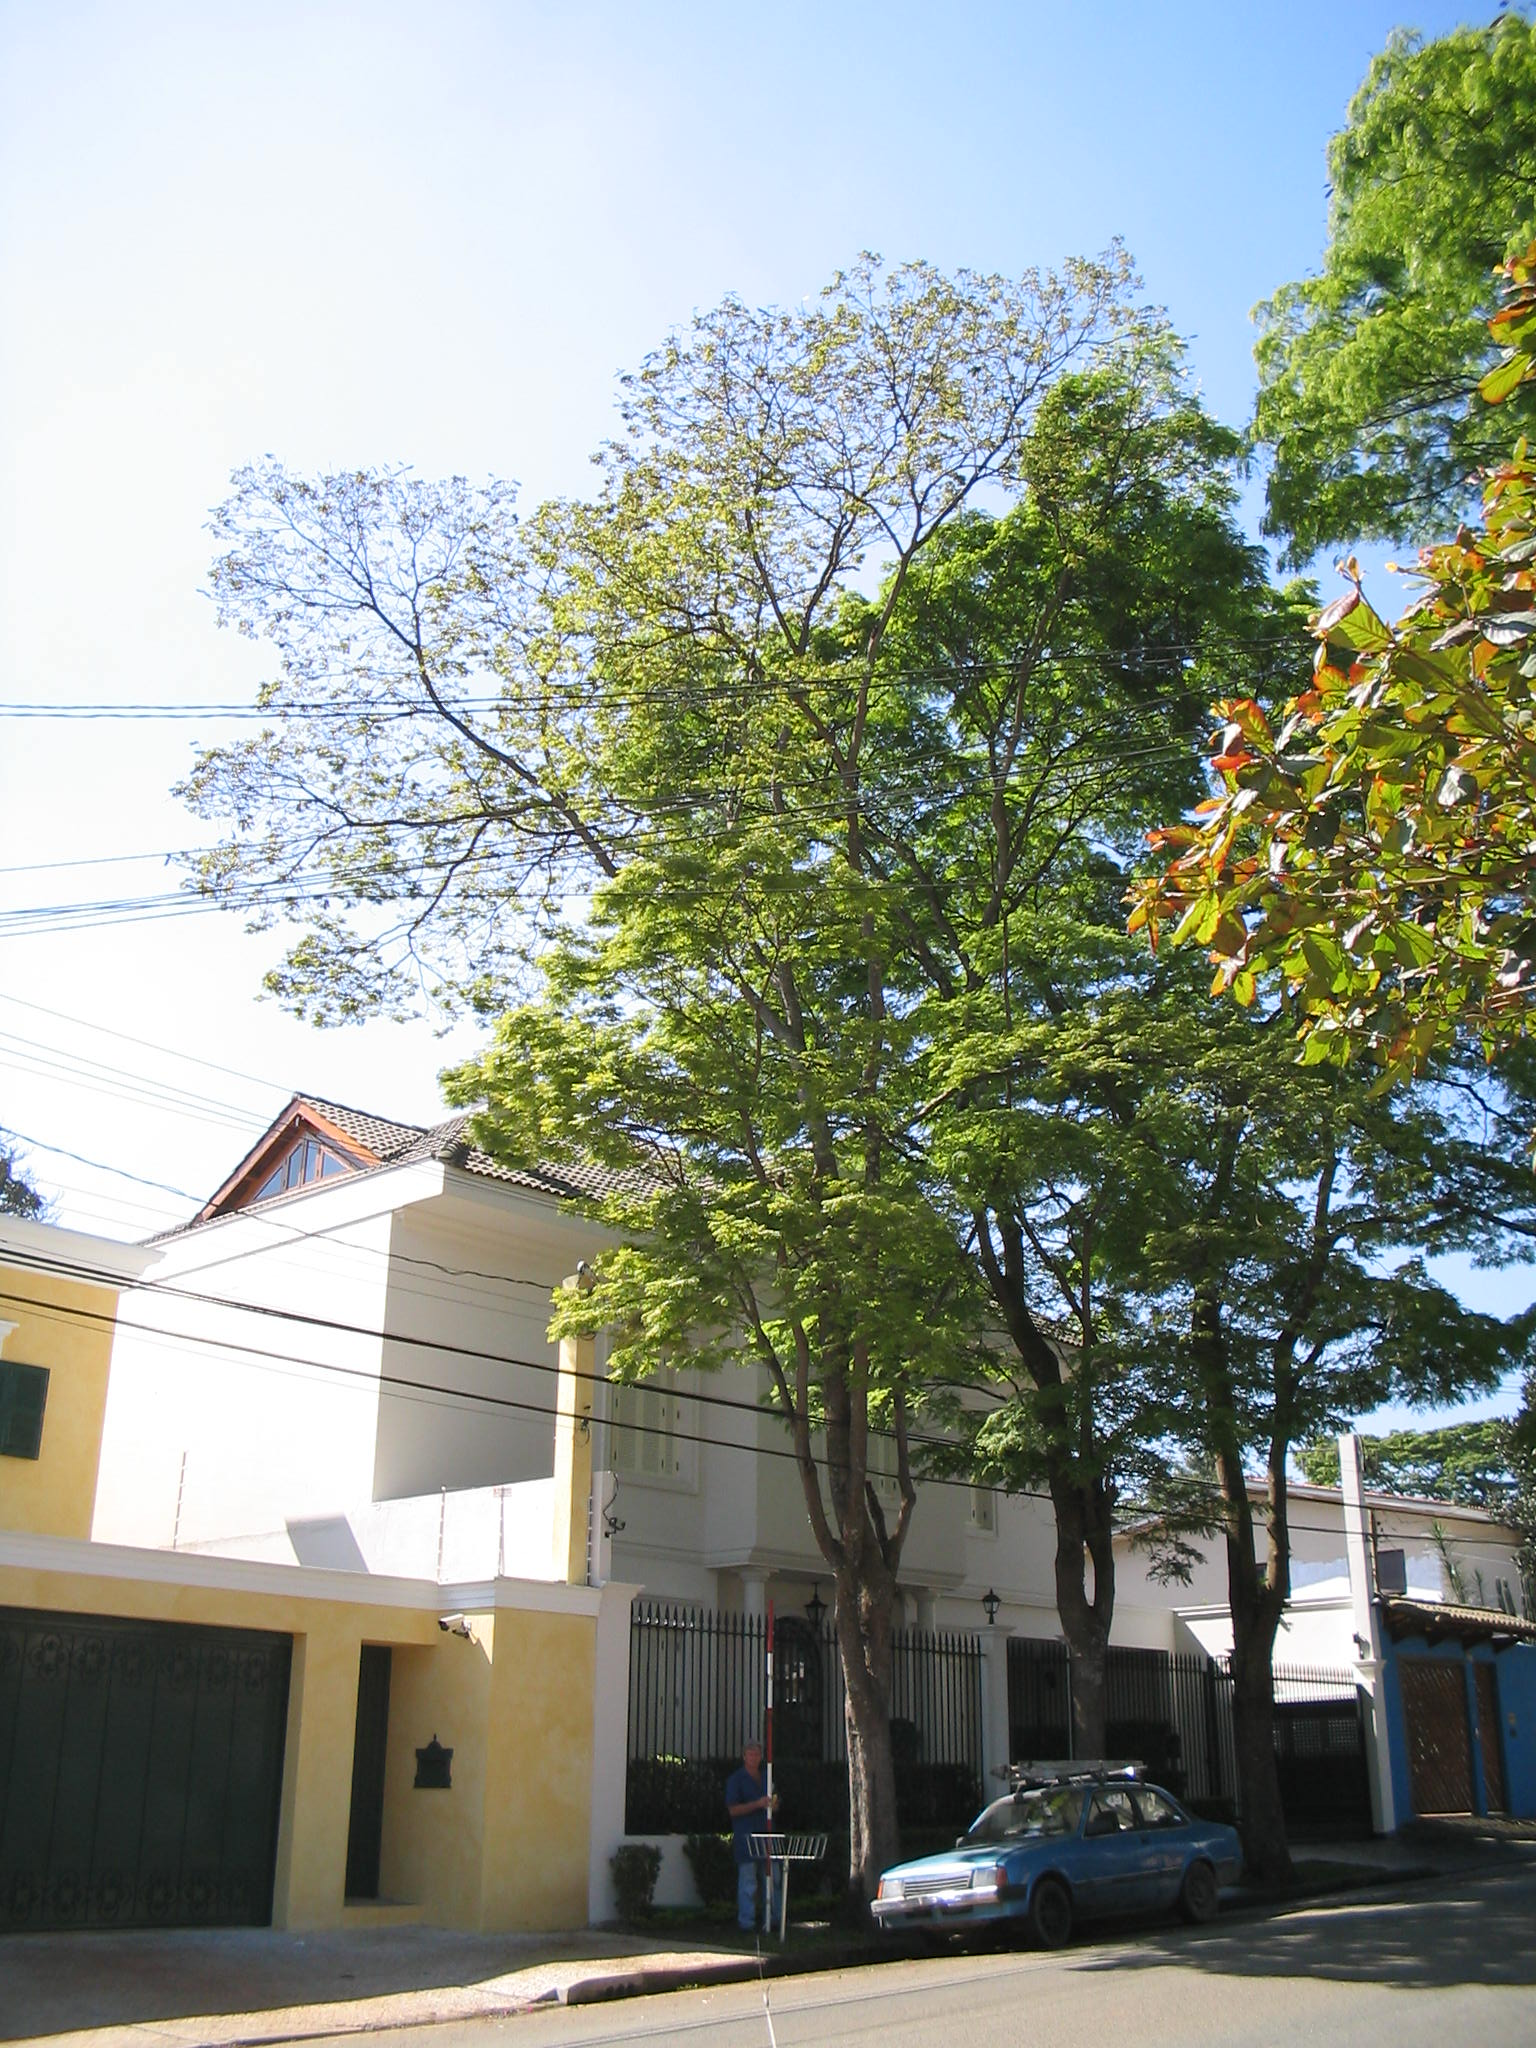crown: (460, 392, 1196, 1490)
stem: (1210, 1642, 1320, 1887), (815, 1711, 931, 1921)
stick: (750, 1596, 789, 1929)
tree: (452, 384, 1204, 1924)
